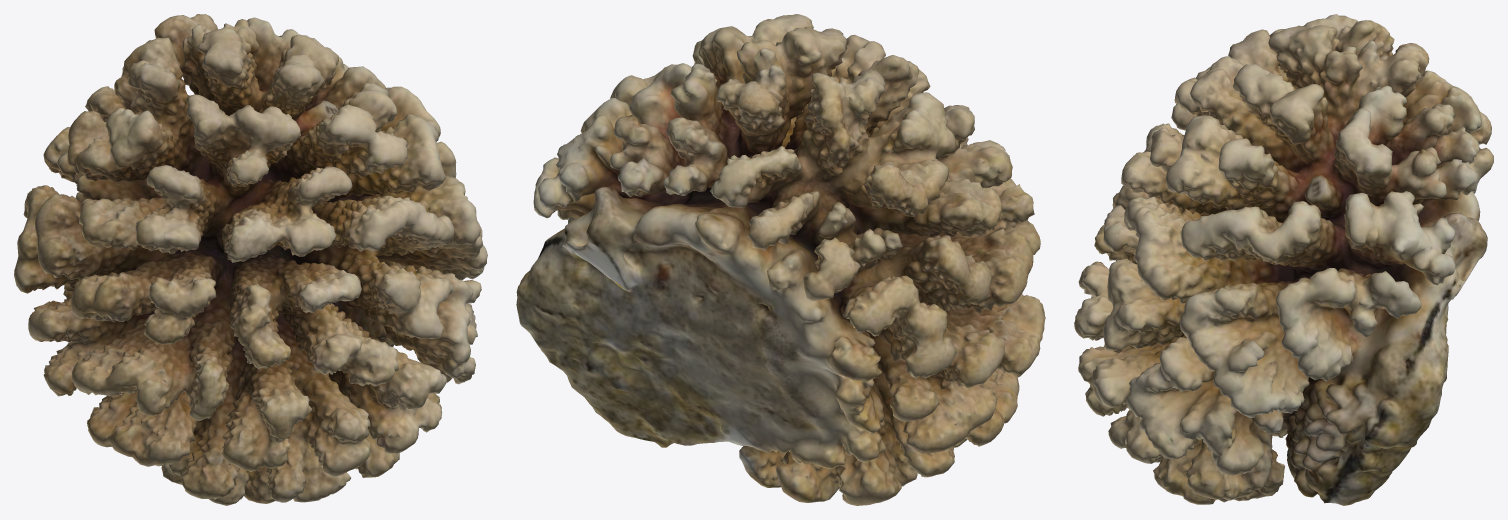
Rendered from smithsonian-pocillopora-nobilis.glb.
3 views of the same model, side by side, from view 1: azimuth 30°, elevation 25°; view 2: azimuth 150°, elevation 25°; view 3: azimuth 270°, elevation 25° (orthographic). The views are drawn at different scales.
Parts seen in each view (by area): view 1: Pocillopora_nobilis-unwrapped-webmulti; view 2: Pocillopora_nobilis-unwrapped-webmulti; view 3: Pocillopora_nobilis-unwrapped-webmulti.
Part boxes in pixels (x1,y1,x2,y2): Pocillopora_nobilis-unwrapped-webmulti: (14, 14, 487, 505); Pocillopora_nobilis-unwrapped-webmulti: (516, 14, 1045, 505); Pocillopora_nobilis-unwrapped-webmulti: (1074, 14, 1493, 505).
Bounding box in the file's own units: 0.1411 × 0.1457 × 0.1224.
Materials: 1 (1 with a texture image).
